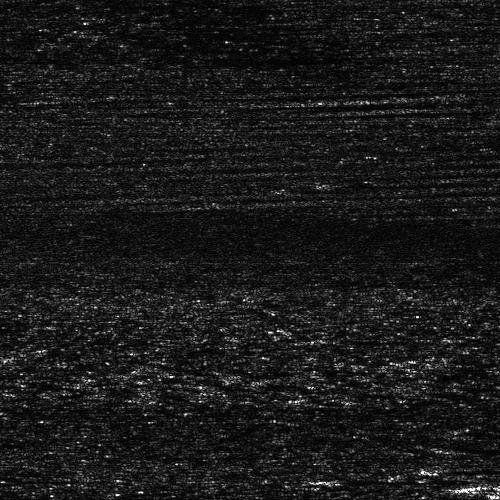rock: (407, 464, 480, 471), (428, 441, 469, 452), (276, 477, 339, 484), (460, 484, 491, 491), (0, 476, 35, 481)
shadow: (308, 477, 389, 484), (449, 441, 500, 452), (444, 464, 500, 471), (0, 476, 74, 481), (476, 484, 500, 491)
